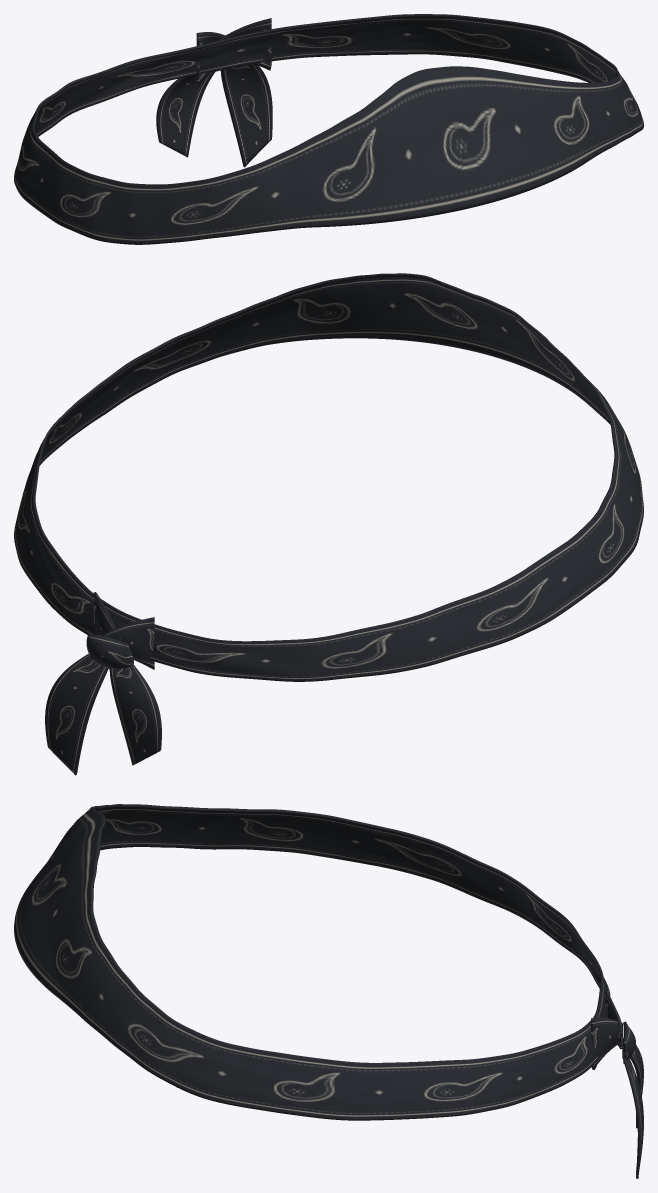
Rendered from Feminine-ponytail-bandana.glb.
The picture shows the model from 3 angles, top to bottom: view 1: azimuth 30°, elevation 25°; view 2: azimuth 150°, elevation 25°; view 3: azimuth 270°, elevation 25°; orthographic projection.
Visible parts, largest first — view 1: Bandana / folded wrap, Bandana / hemmed tail 1, Bandana / hemmed tail -1, Bandana / gathered fold 1, Bandana / gathered fold -1; view 2: Bandana / folded wrap, Bandana / hemmed tail 1, Bandana / hemmed tail -1, Bandana / gathered fold -1, Bandana / rounded knot fold; view 3: Bandana / folded wrap, Bandana / gathered fold 1, Bandana / hemmed tail 1.
Part boxes in pixels (x1,y1,x2,y2): Bandana / folded wrap: [14, 14, 643, 244]; Bandana / hemmed tail 1: [220, 64, 272, 167]; Bandana / hemmed tail -1: [156, 71, 215, 157]; Bandana / gathered fold 1: [220, 18, 271, 70]; Bandana / gathered fold -1: [196, 32, 225, 85]; Bandana / folded wrap: [14, 273, 643, 681]; Bandana / hemmed tail 1: [45, 654, 108, 775]; Bandana / hemmed tail -1: [109, 665, 161, 765]; Bandana / gathered fold -1: [104, 617, 154, 669]; Bandana / rounded knot fold: [86, 633, 133, 669]; Bandana / folded wrap: [14, 804, 610, 1120]; Bandana / gathered fold 1: [591, 1018, 622, 1069]; Bandana / hemmed tail 1: [622, 1047, 643, 1178].
Bounding box in the file's own units: 0.755 × 0.4179 × 0.761.
1 material, 1 textured.
